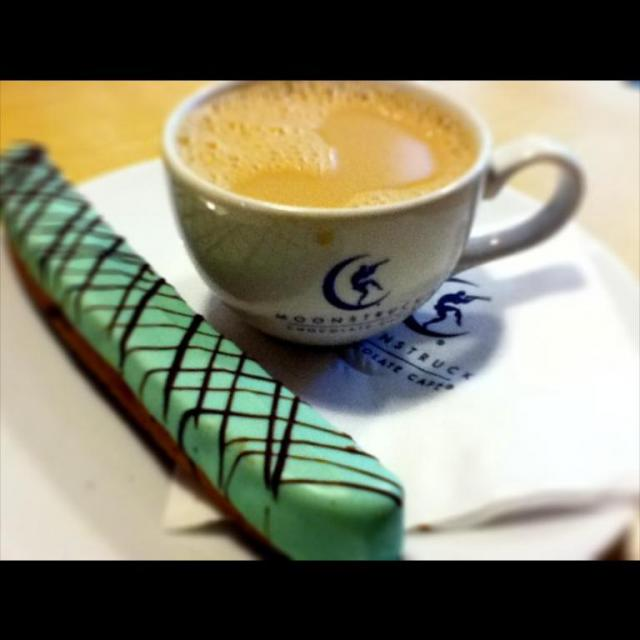non-organic waste: (12, 150, 620, 578)
